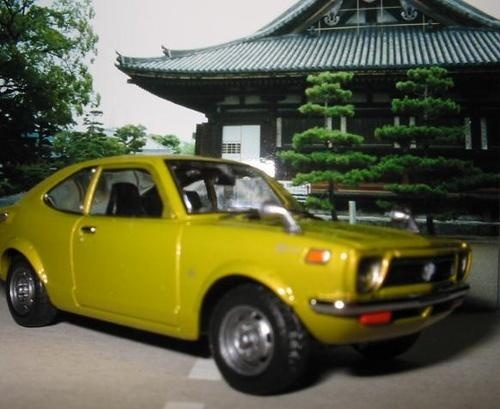car: (1, 152, 472, 400)
